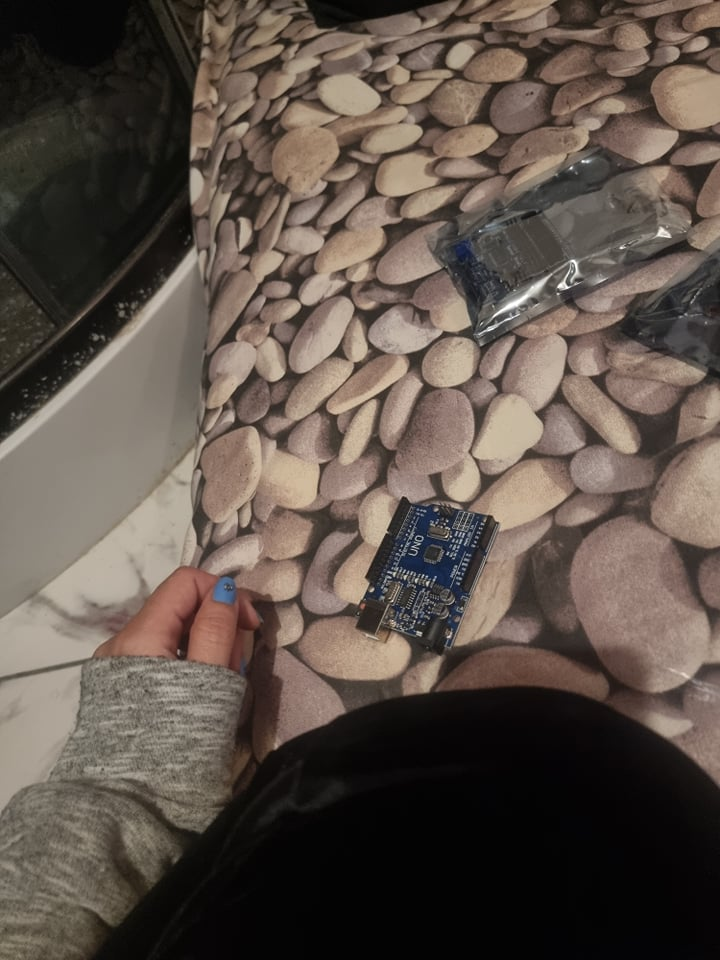UNO R3: (354, 496, 499, 658)
